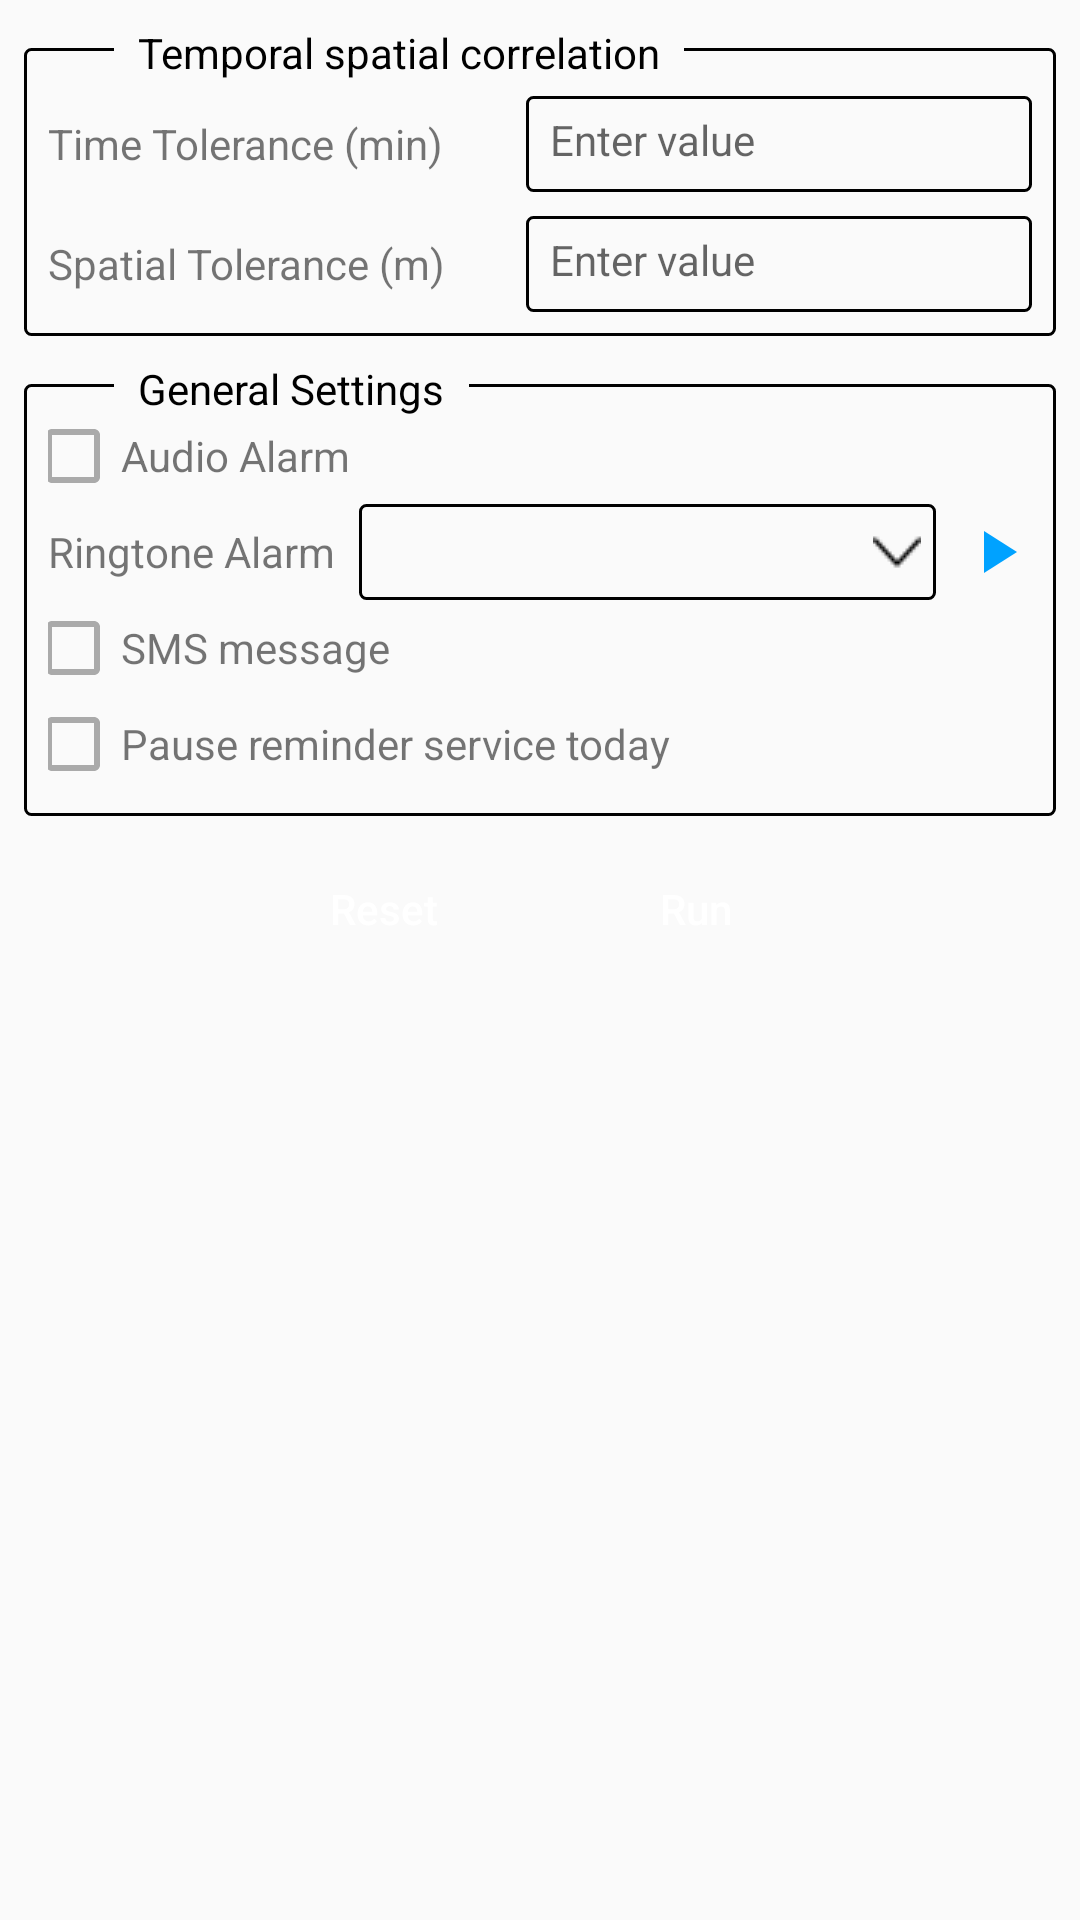

Icon bounding boxes for this 1080px×1920px phone screenshot, format (x1, y1, x2, y2):
play arrow: (984, 531, 1017, 573)
